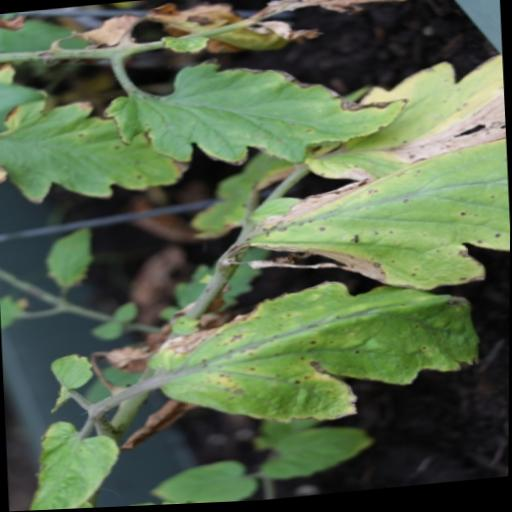Early Blight: (148, 270, 486, 437), (235, 137, 511, 311), (94, 47, 415, 186)
